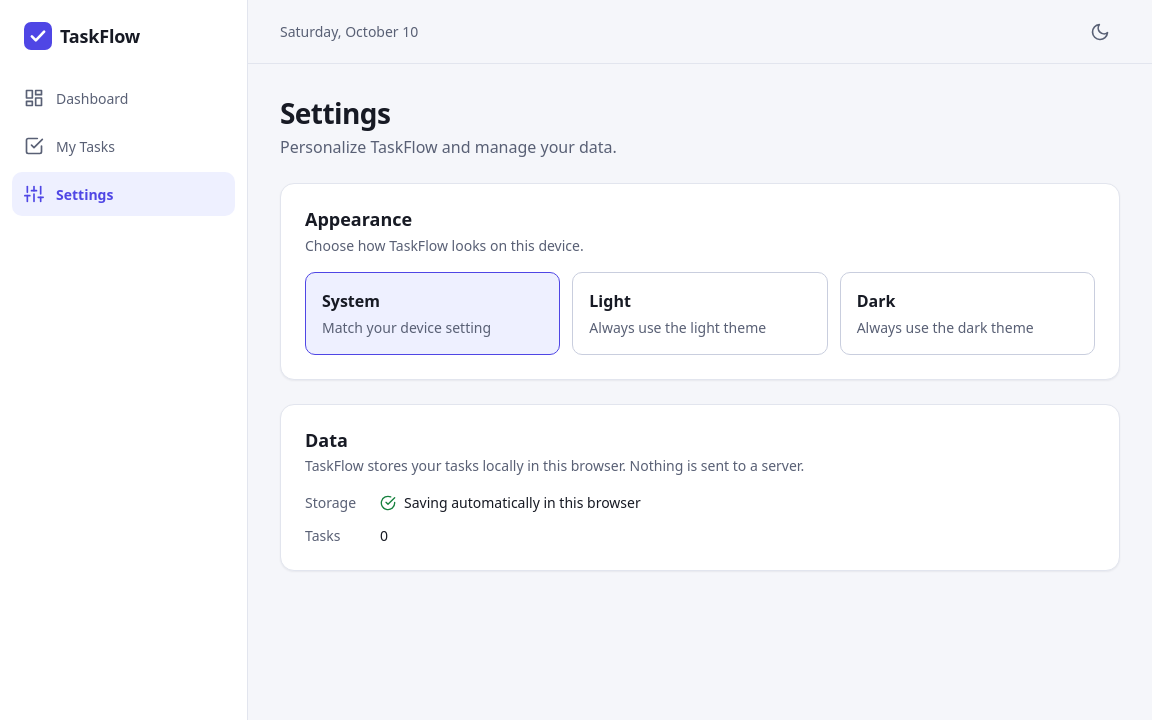
navigation › returns to the Dashboard from the brand link
Step 1. Click the link with aria-label "TaskFlow home" → (82,36), box [24,22,140,50]
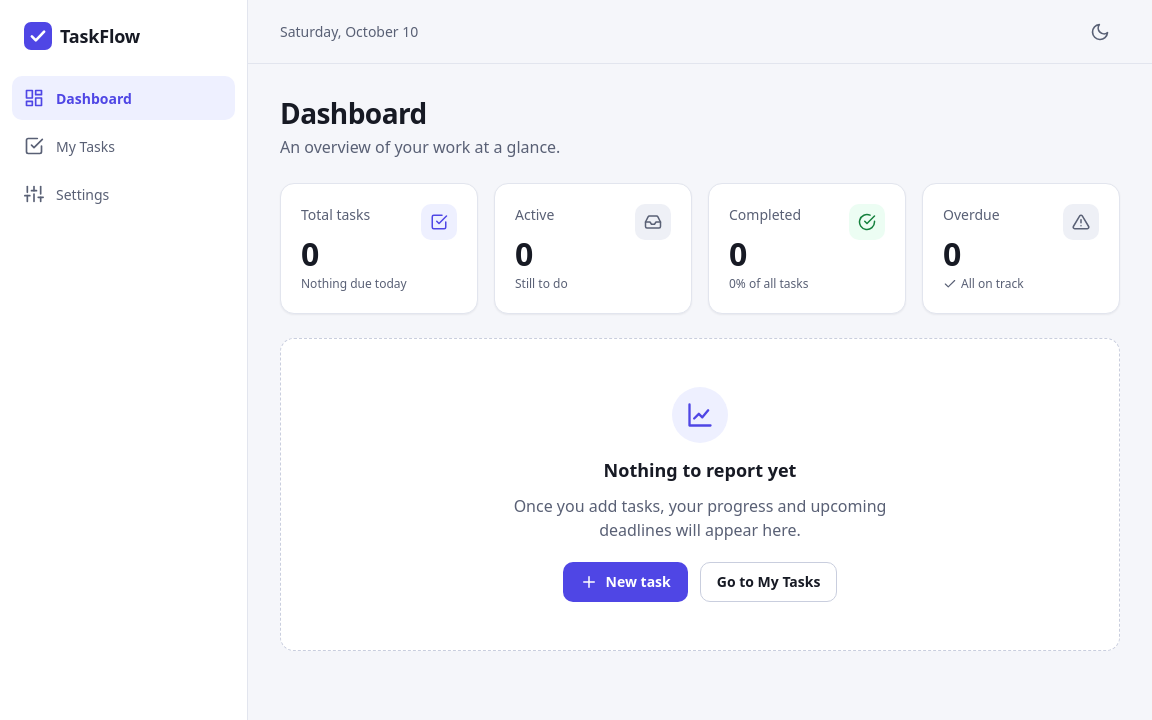
Expected: the heading "Dashboard" is shown, [280,94,427,132]
